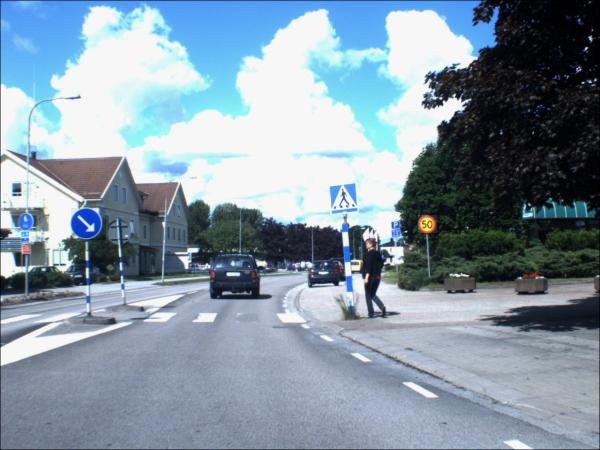50_SIGN: (419, 216, 439, 235)
PASS_RIGHT_SIDE: (72, 209, 108, 242)
PEDESTRIAN_CROSSING: (331, 184, 360, 216)
